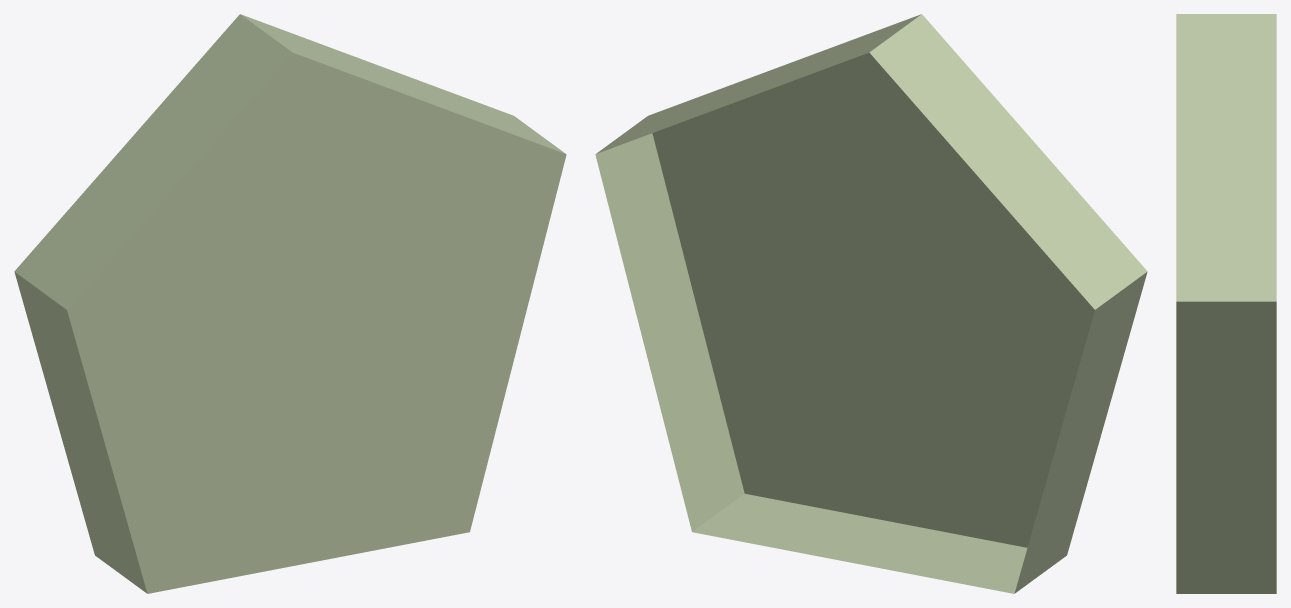
The model's file is vegetation.glb.
3 renders of one model, left to right at view 1: azimuth 30°, elevation 25°; view 2: azimuth 150°, elevation 25°; view 3: azimuth 270°, elevation 25°, orthographic. The views are drawn at different scales.
Parts seen in each view (by area): view 1: vegetation; view 2: vegetation; view 3: vegetation.
Boxes of the visible parts, x1,y1,x2,y2 form: vegetation: (14, 14, 566, 593); vegetation: (595, 14, 1147, 593); vegetation: (1176, 14, 1276, 593).
Size of the model in its own units: 930 by 930 by 170.
